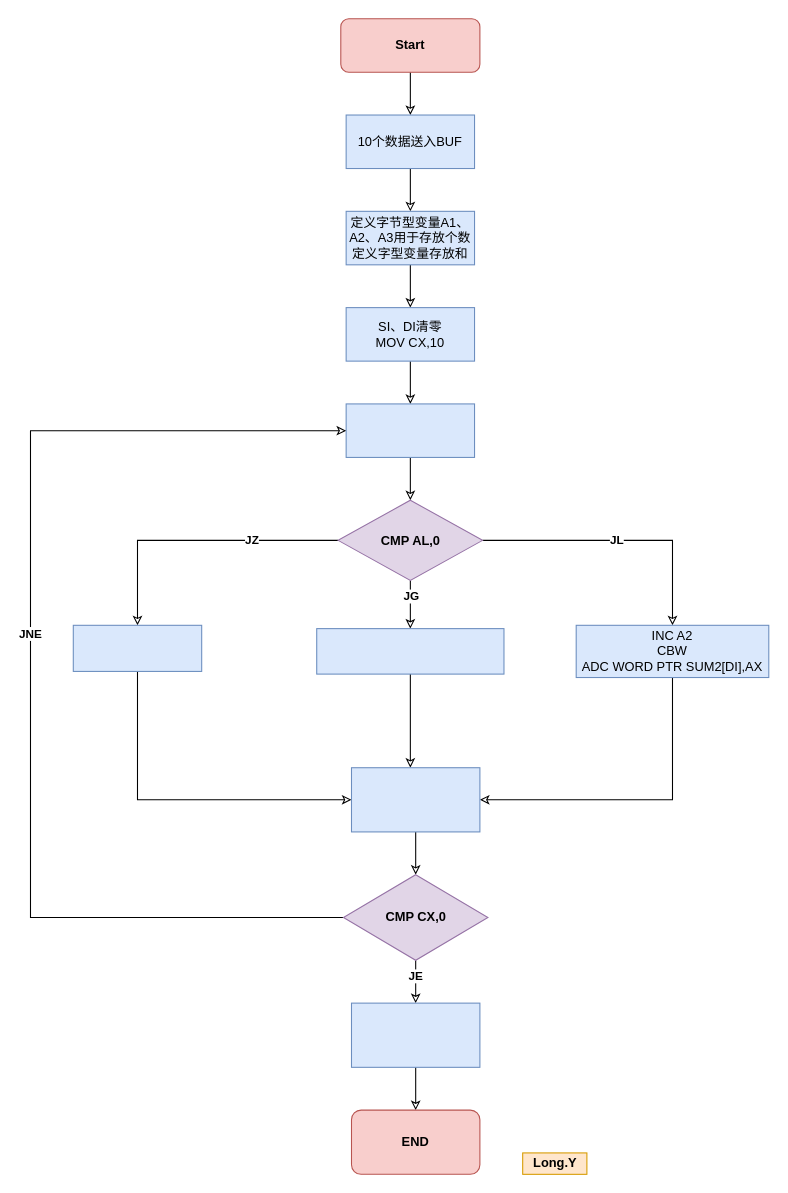
Image size: 788x1193. Some labels were removed from this diagram. Here are the shapes that lost their labels. From the top down, the centre of each, then its label:
pixel 410 430: MOV AL,BUF[SI]
pixel 137 647: INC A3
pixel 410 651: INC A1 CBW ADC WORD PTR SUM1[DI],AX
pixel 415 799: INC SI DEC CX
pixel 415 1034: 输出A1,A2,A3 十六进制和 SUM1.SUM2
